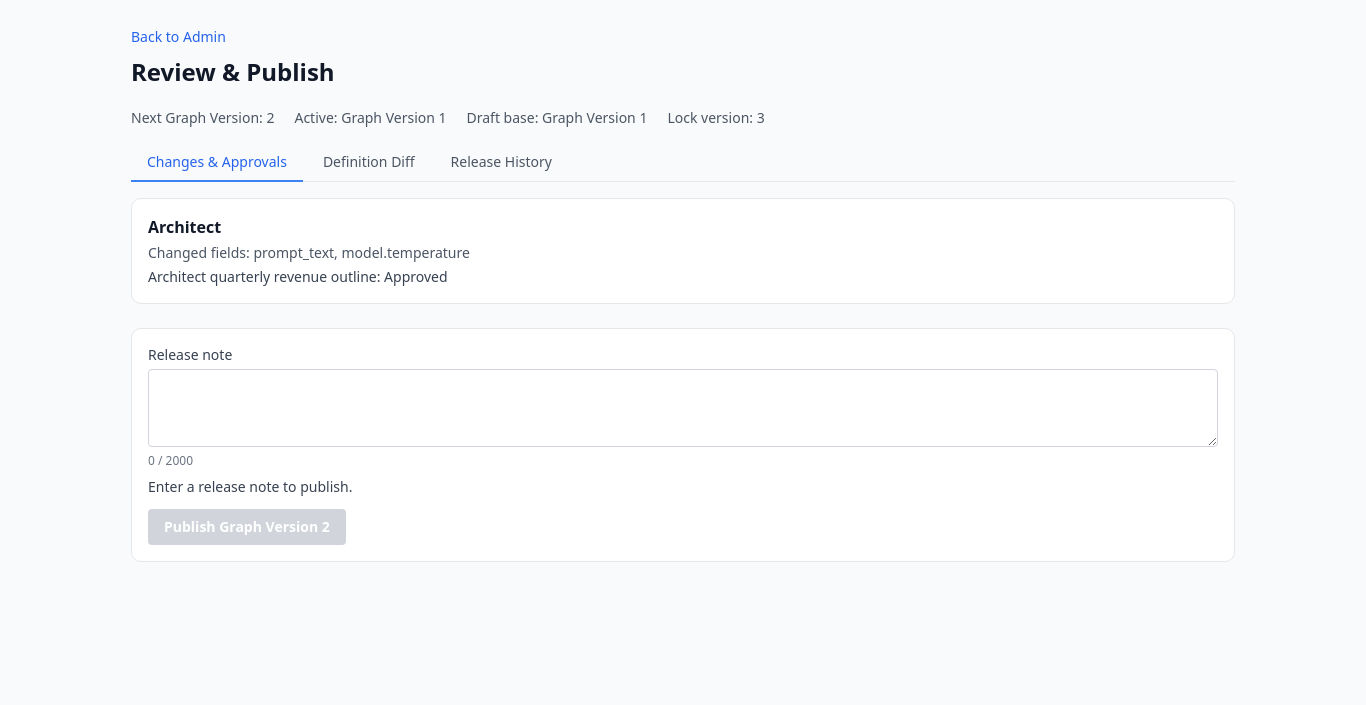
Scenario: Release History: the rollback preview › disables Confirm rollback with the blank note
The width and height of the screenshot is (1366, 705).
Expected: the text "Next Graph Version: 2" is shown, top-left (131, 108), bottom-right (274, 128)
Click the tab with test id "release-history-tab".
click(501, 163)  # box top-left (435, 144), bottom-right (568, 182)
(page scrolled)
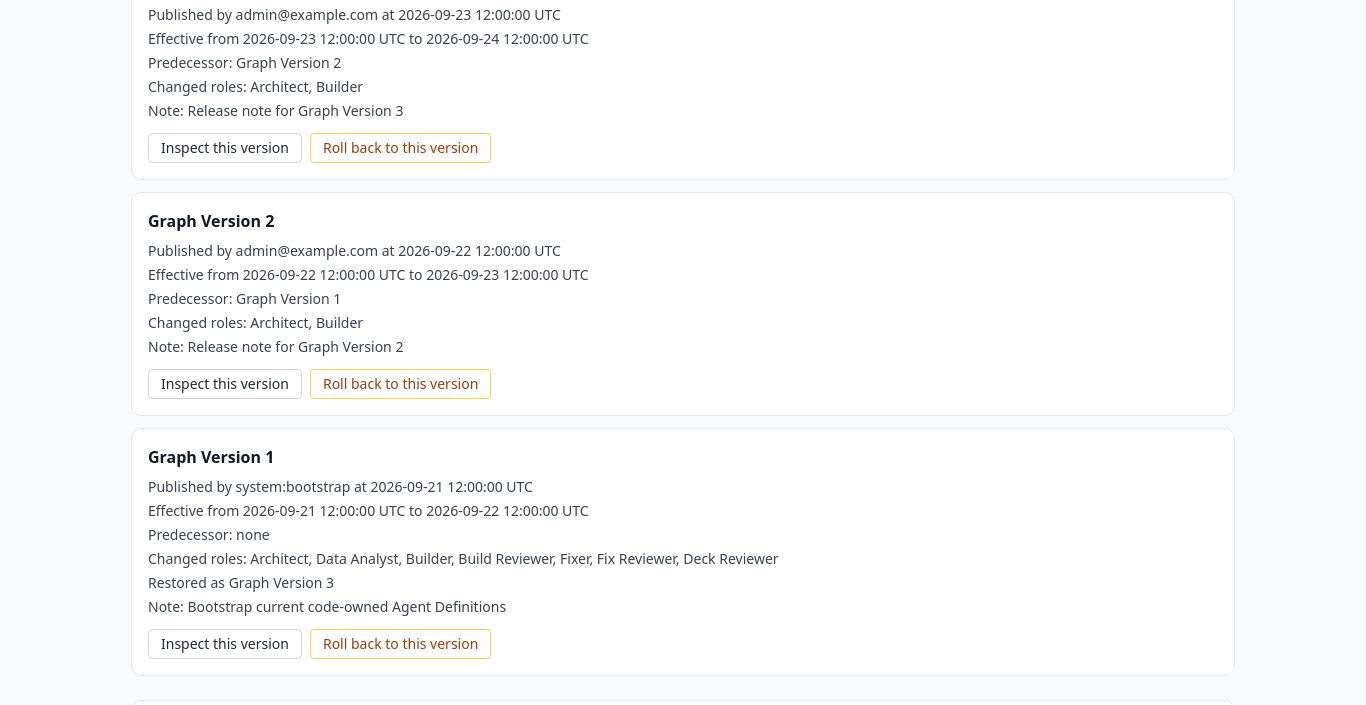
Click the button "Roll back to this version" below "Predecessor: Graph Version 1".
click(401, 384)  # box top-left (310, 369), bottom-right (491, 399)
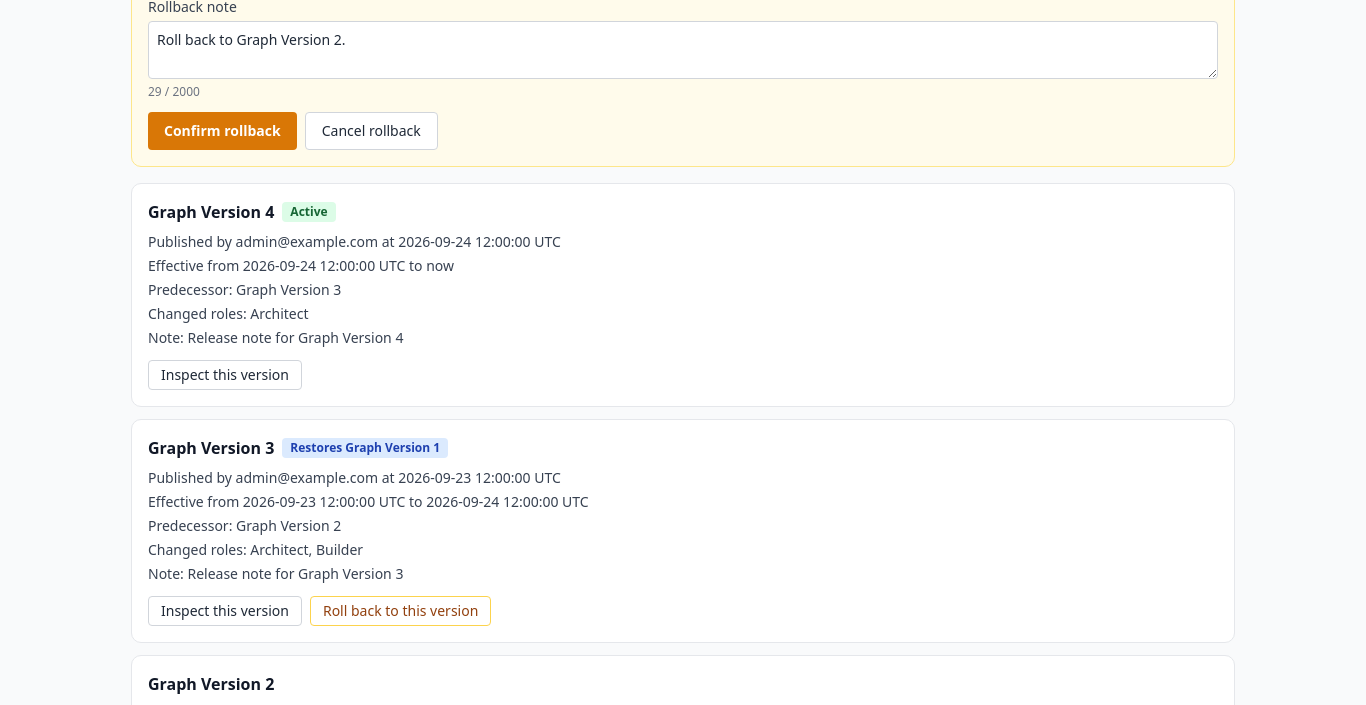
Clear the text box with test id "rollback-note-input" at (683, 50), box top-left (148, 21), bottom-right (1218, 79)
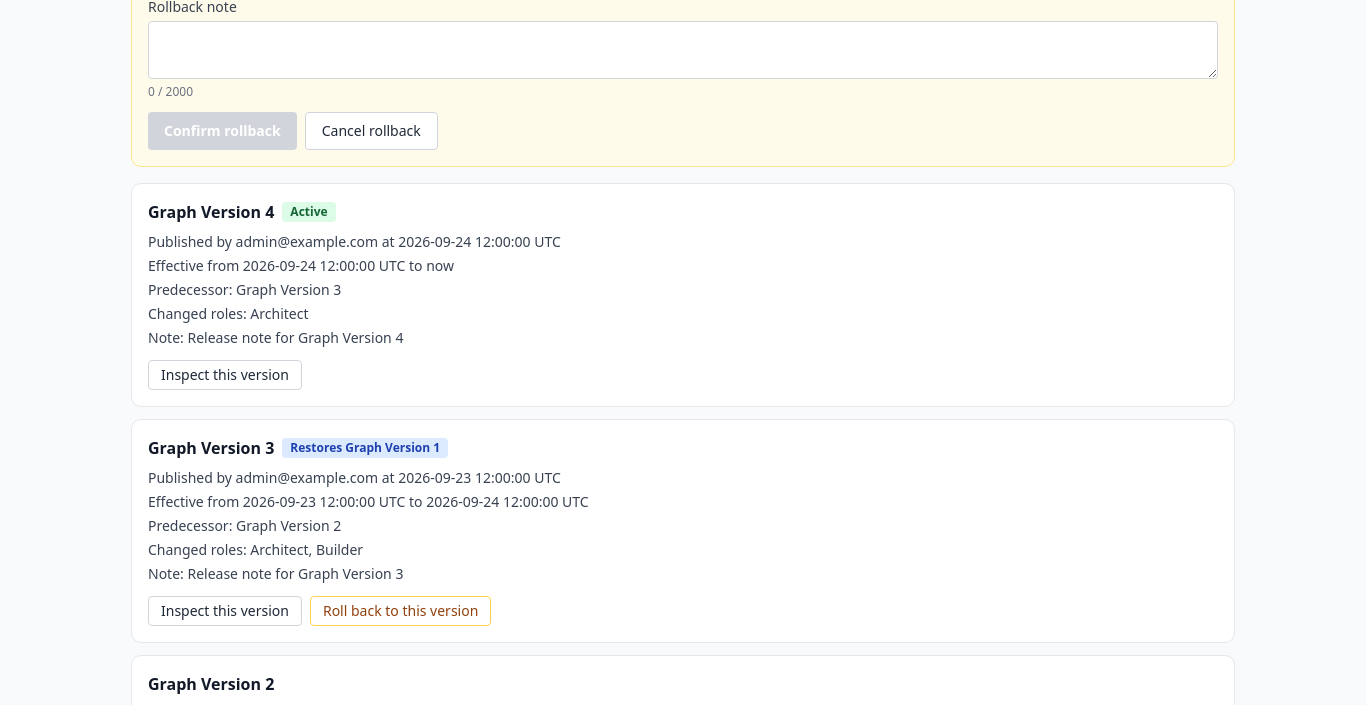
Now the button with test id "rollback-confirm-button" is disabled, box top-left (148, 112), bottom-right (297, 150)
